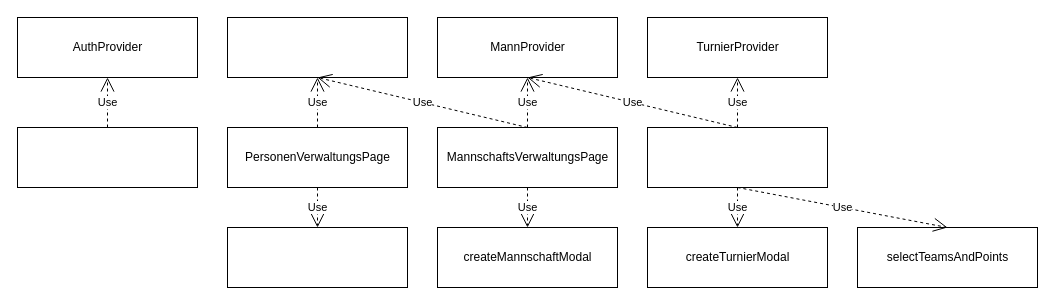
This 1055x305 diagram has some shape labels left out. The centre of each missing label's shape, as x and y in pixels:
"createPersonModal" goes at point (317, 257).
"Login" goes at point (107, 157).
"PersProvider" goes at point (317, 47).
"TurnierVerwaltungsPage" goes at point (737, 157).
